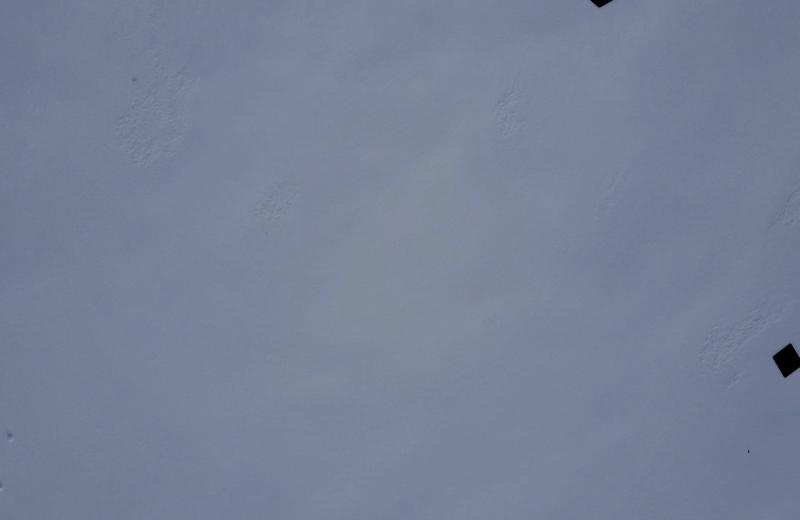Square: (773, 341, 800, 375)
